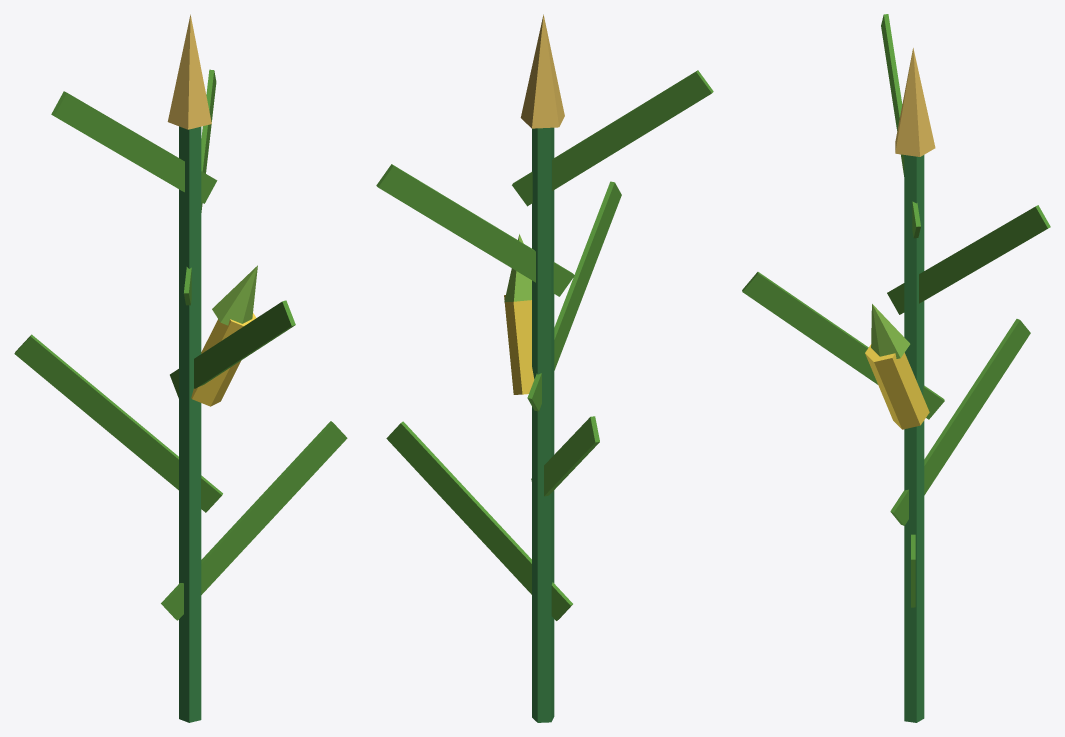
File: corn_plant.glb
3 renders of one model, left to right at view 1: azimuth 30°, elevation 25°; view 2: azimuth 150°, elevation 25°; view 3: azimuth 270°, elevation 25°, orthographic. The views are drawn at different scales.
Visible parts, largest first — view 1: corn_plant; view 2: corn_plant; view 3: corn_plant.
Boxes of the visible parts, x1,y1,x2,y2 form: corn_plant: [14, 14, 347, 722]; corn_plant: [376, 14, 713, 722]; corn_plant: [742, 14, 1050, 722].
Bounding box in the file's own units: 1.07 × 2.33 × 0.9692.
